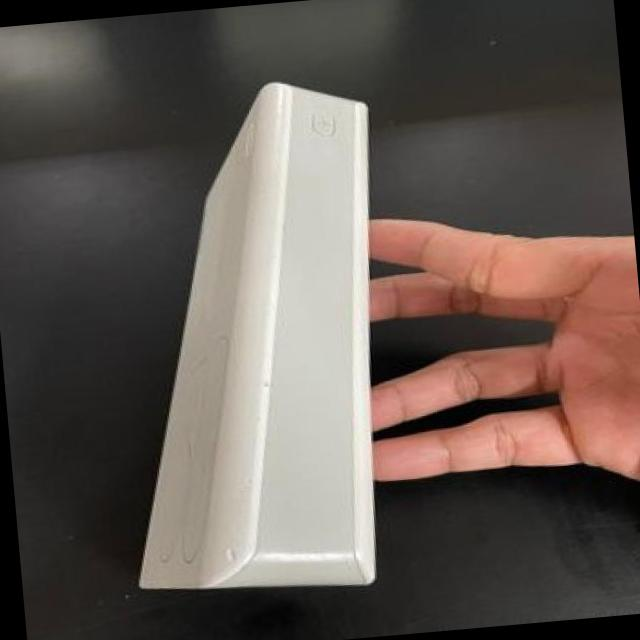power_bank: (87, 63, 415, 622)
